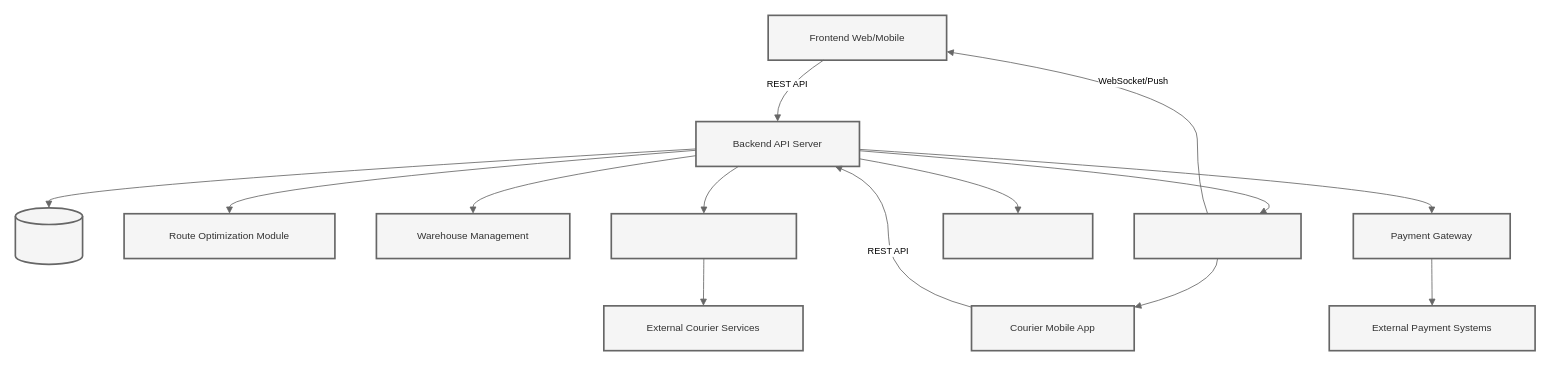
Some shapes in this 1550 by 365 pixel diagram are drawn without their labels. The shapes that lost their labels are listed below. From the top down, each one's centre as x and y in pixels, then its label:
point 48,236: Database
point 703,235: Courier Integration API
point 1017,235: Analytics System
point 1217,235: Notification Service
